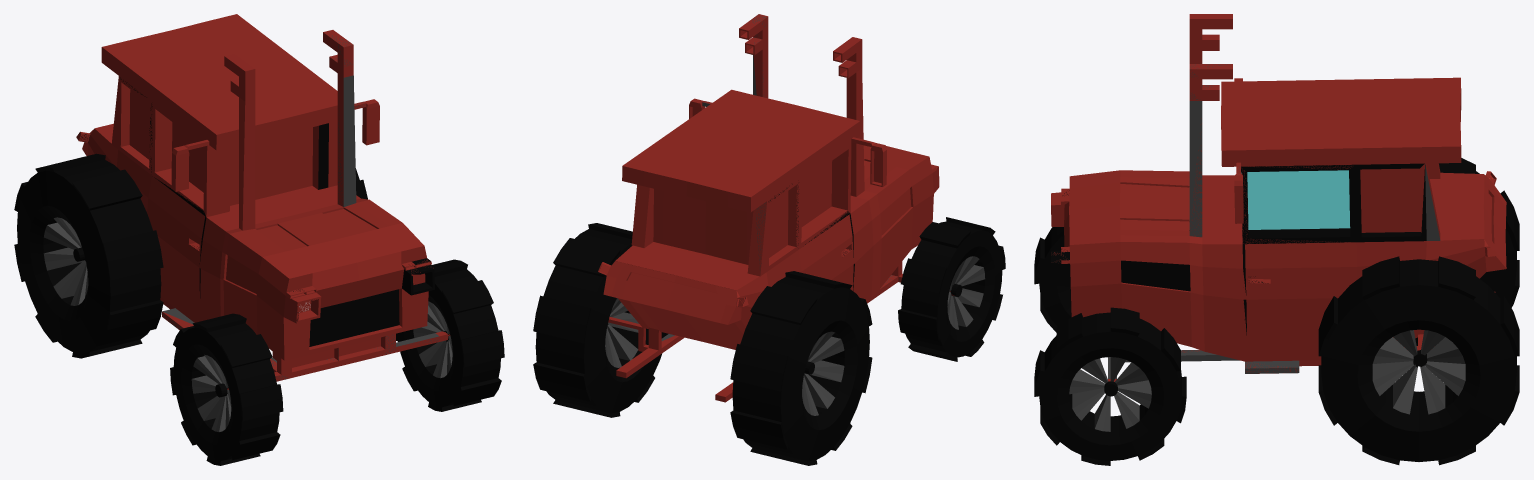
Rendered from tracteur.gltf.
3 renders of one model, left to right at view 1: azimuth 30°, elevation 25°; view 2: azimuth 150°, elevation 25°; view 3: azimuth 270°, elevation 25°, orthographic. The views are drawn at different scales.
Visible parts, largest first — view 1: Tracteur; view 2: Tracteur; view 3: Tracteur.
Part boxes in pixels (left/top/right/bottom): Tracteur: left=14, top=14, right=504, bottom=465; Tracteur: left=533, top=14, right=1005, bottom=465; Tracteur: left=1034, top=14, right=1519, bottom=465.
Bounding box in the file's own units: 0.09 × 0.1104 × 0.1357.
Materials: 1 (1 with a texture image).
